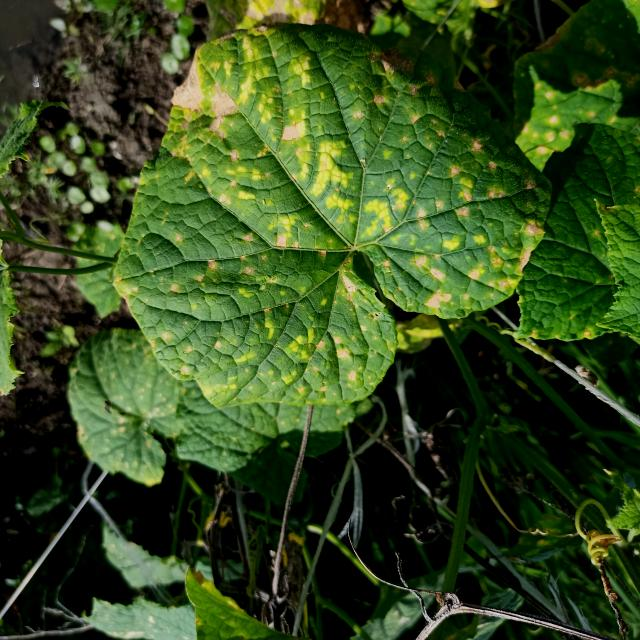disease_cucumber: (116, 45, 542, 402)
